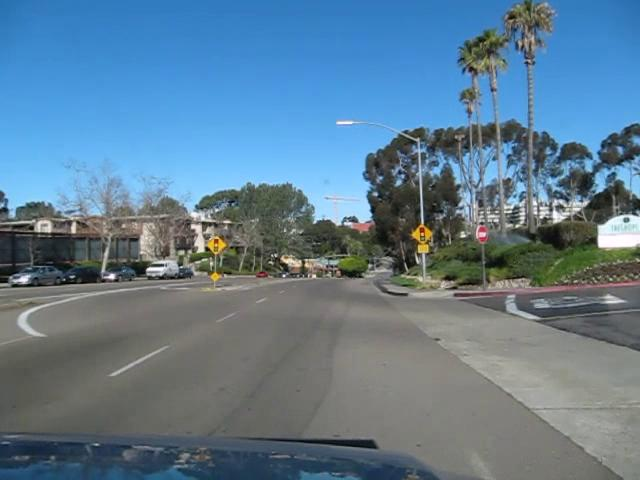signalAhead: (410, 223, 433, 245), (206, 235, 225, 252)
